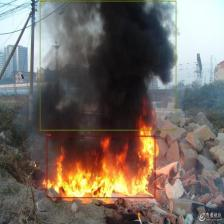fire: (47, 136, 155, 198)
smoke: (40, 1, 176, 130)
